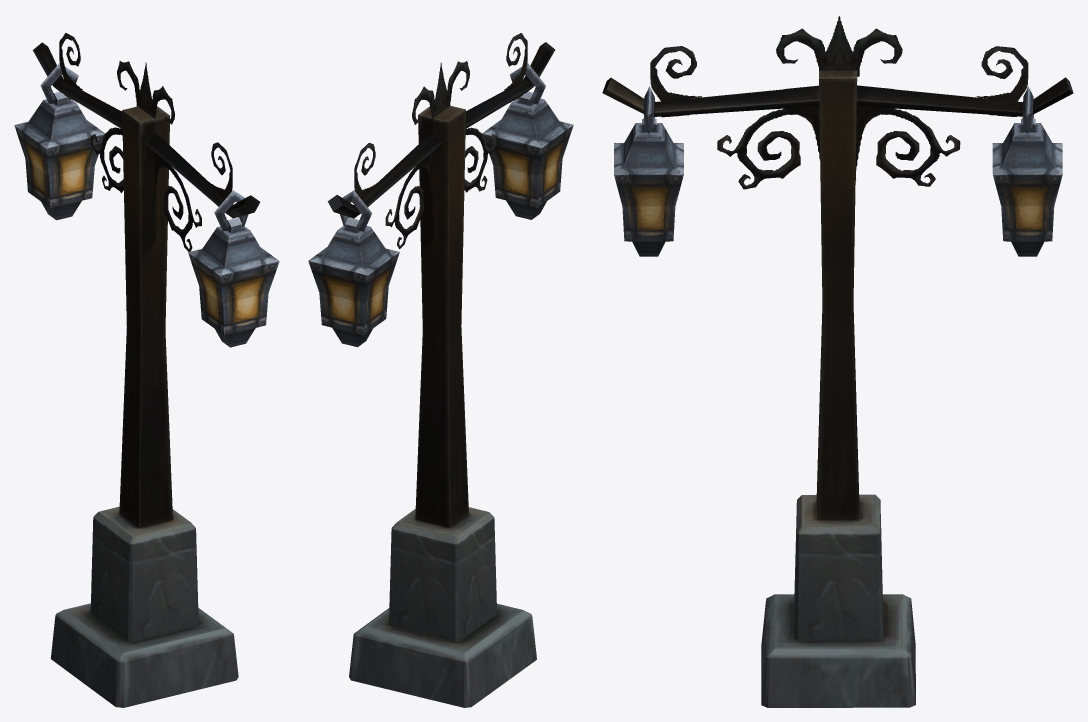
The model's file is object_lampposts05.fbx.
3 views of the same model, side by side, from view 1: azimuth 30°, elevation 25°; view 2: azimuth 150°, elevation 25°; view 3: azimuth 270°, elevation 25° (orthographic). The views are drawn at different scales.
Visible parts, largest first — view 1: obj1.013; view 2: obj1.013; view 3: obj1.013.
Boxes of the visible parts, bbox=[...] form: obj1.013: bbox=[14, 33, 279, 707]; obj1.013: bbox=[308, 33, 573, 707]; obj1.013: bbox=[602, 16, 1073, 707].
Size of the model in its own units: 1 by 4.73 by 3.05.
